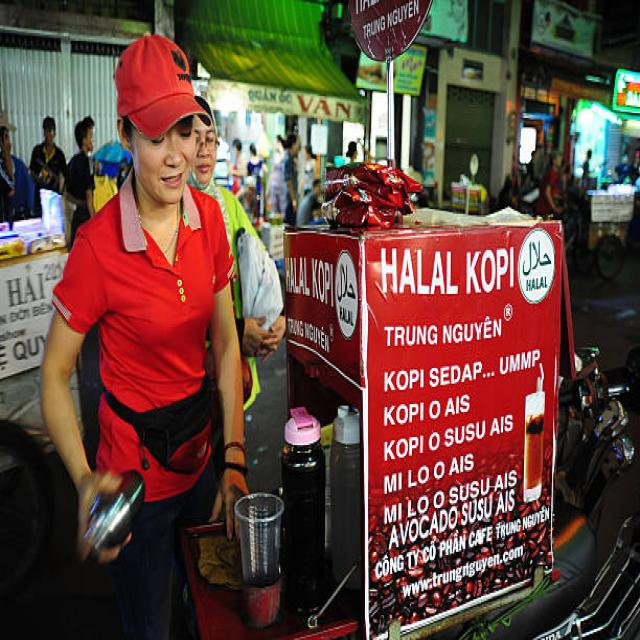Emperan: (29, 45, 621, 640)
